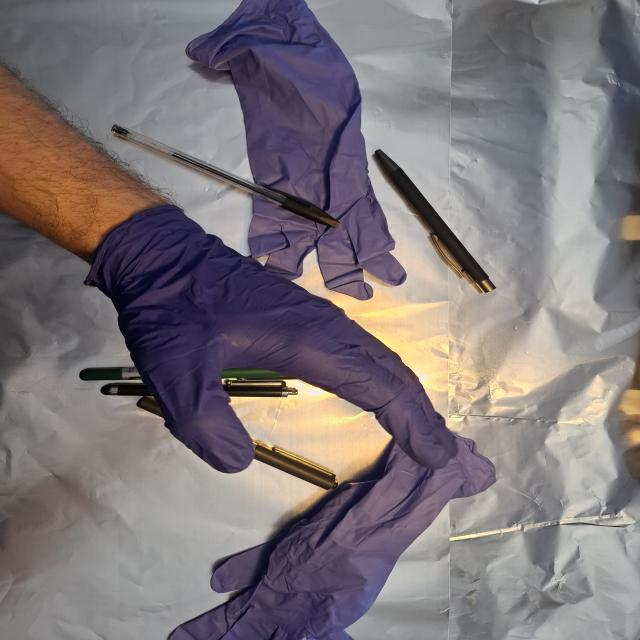glove_on: (82, 198, 462, 476)
